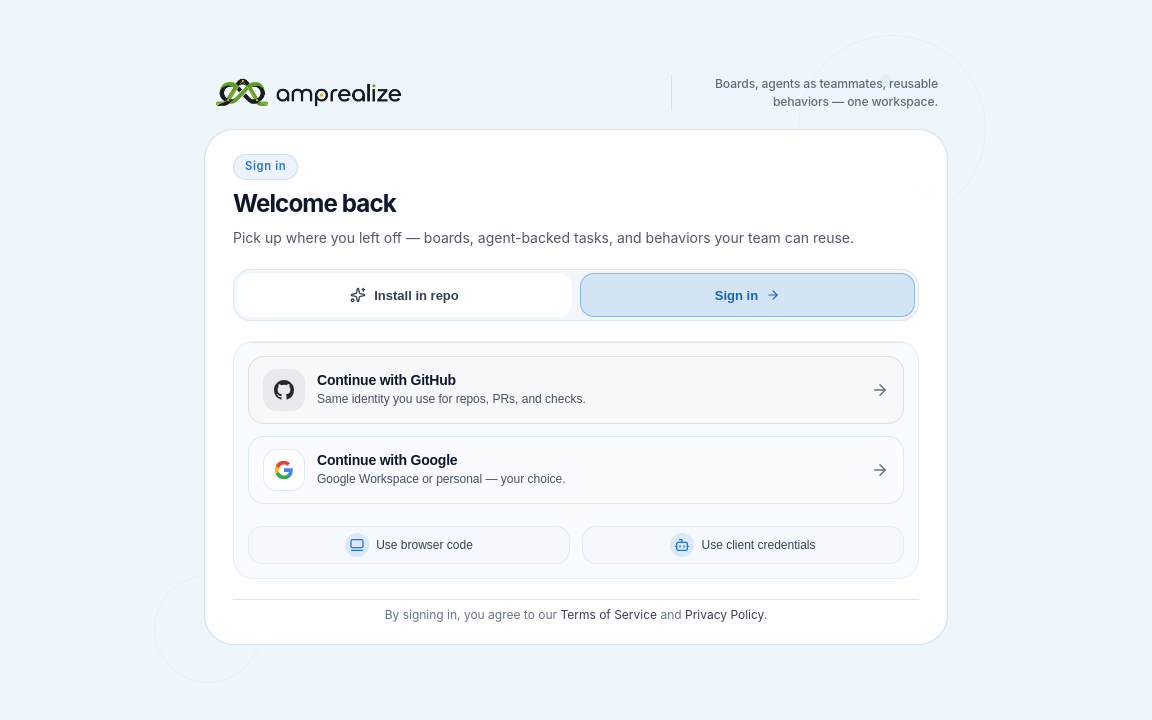
LoginPage › reveals agent credentials only after the secondary entry is chosen
Click the button "Use client credentials" at (743, 545), box [582,526,904,564]
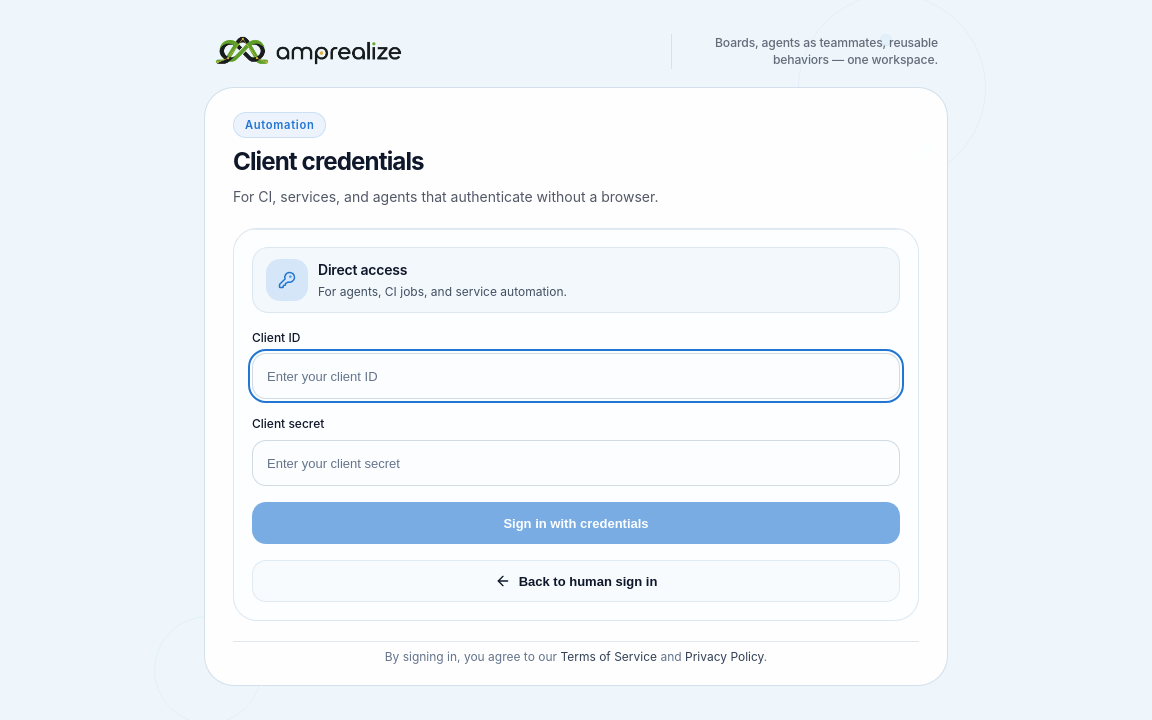
Expected: the field labelled "Client ID" is shown, [252,353,900,399]
Expected: the password field labelled "Client secret" is shown, [252,440,900,486]
Expected: the button "Continue with GitHub" is gone
